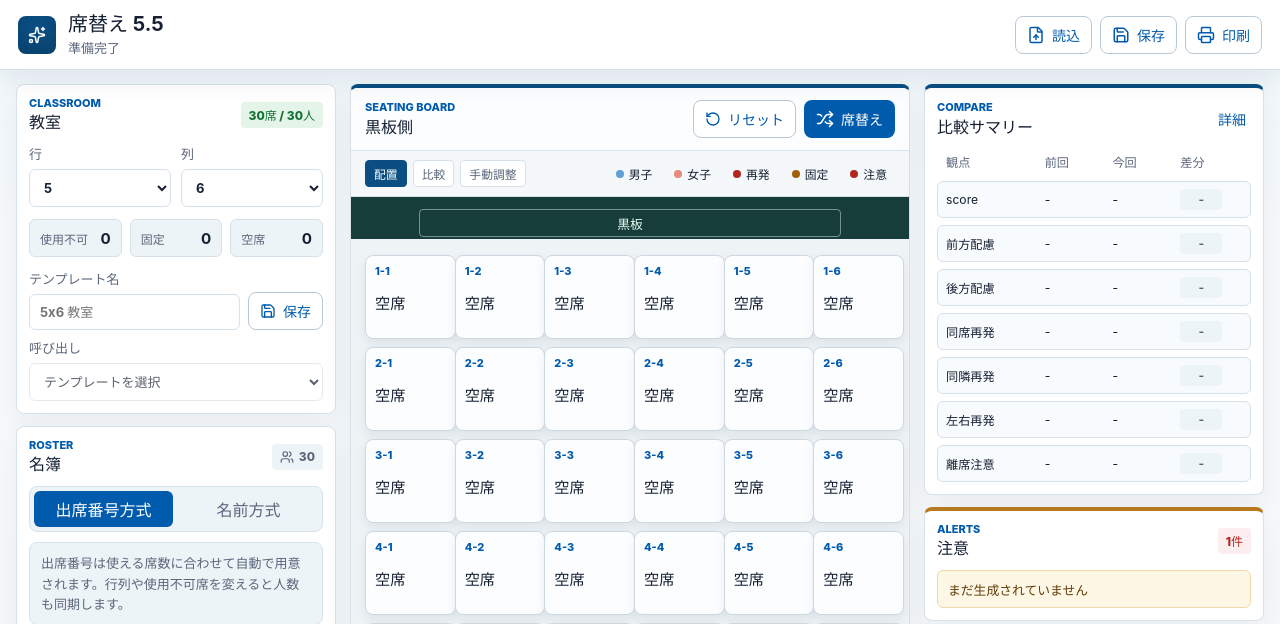
Test: App › generates a seating plan from the default roster
Click the button with test id "generate-button" at coordinates (850, 119), box [804,100,895,138]
(page scrolled)
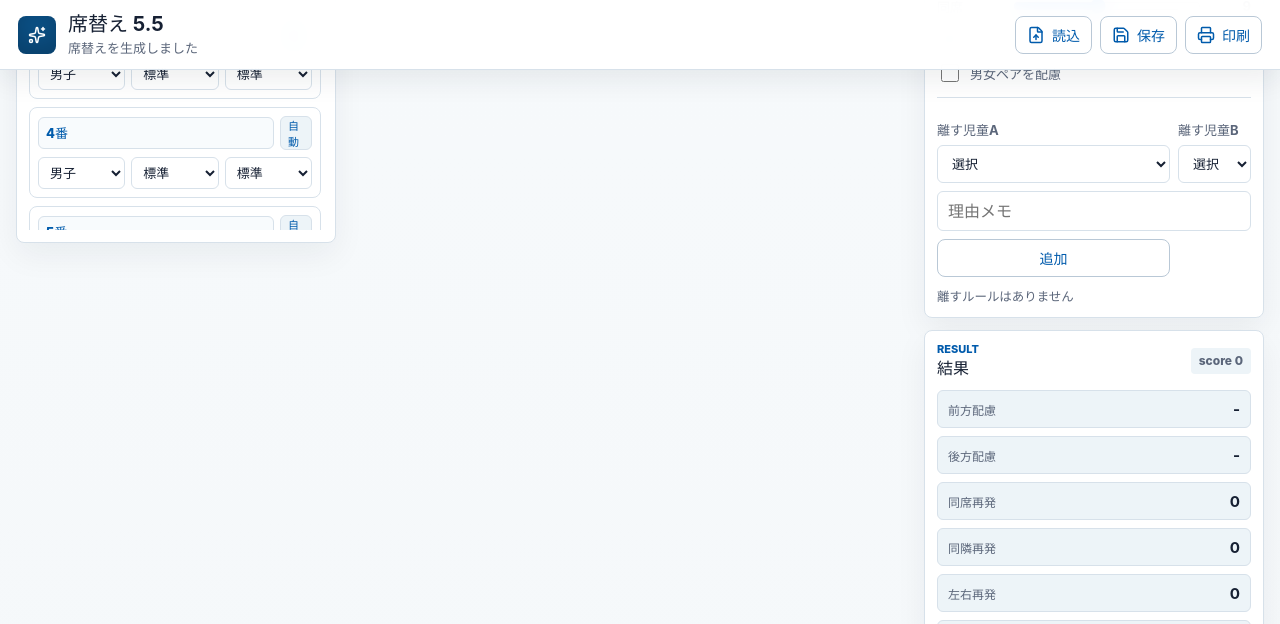
expect the text "score 0" is shown: met, box [1191,348,1251,374]
expect the text "席替えを生成しました" is shown: met, box [68,38,198,57]
